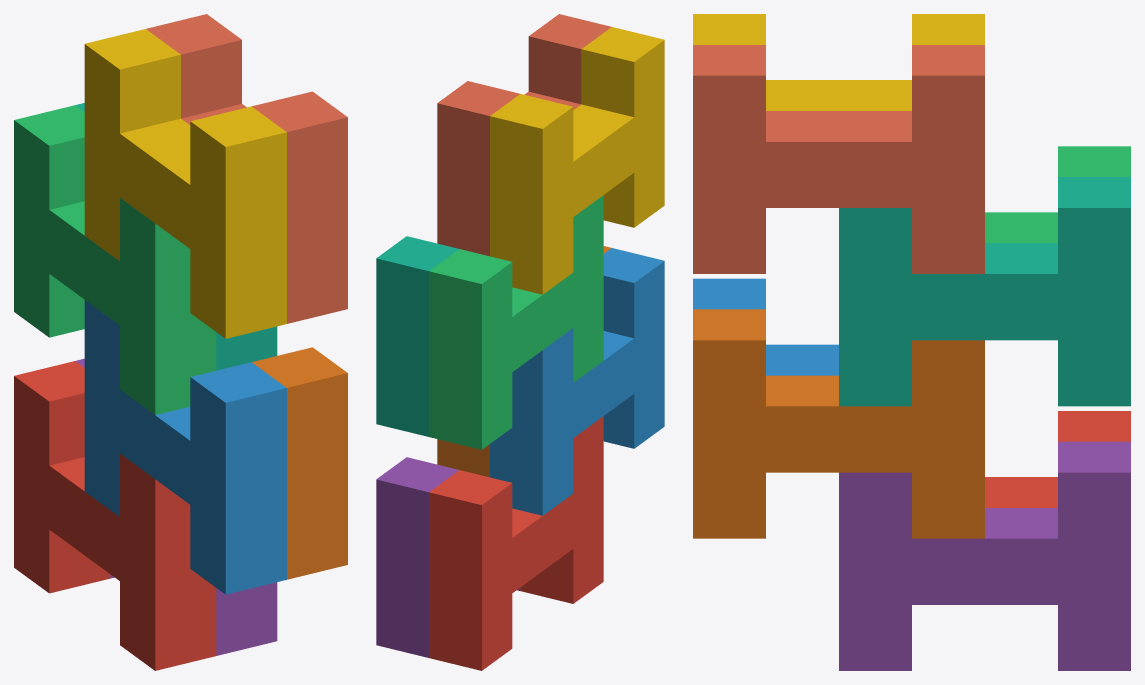
The model's file is tiling.obj.
3 views of the same model, side by side, from view 1: azimuth 30°, elevation 25°; view 2: azimuth 150°, elevation 25°; view 3: azimuth 270°, elevation 25° (orthographic). The views are drawn at different scales.
Parts seen in each view (by area): view 1: copy_1_domain_4, copy_1_domain_1, copy_1_domain_2, copy_1_domain_3, copy_1_domain_8, copy_1_domain_6, copy_1_domain_5, copy_1_domain_7; view 2: copy_1_domain_4, copy_1_domain_1, copy_1_domain_3, copy_1_domain_2, copy_1_domain_8, copy_1_domain_5, copy_1_domain_7, copy_1_domain_6; view 3: copy_1_domain_8, copy_1_domain_6, copy_1_domain_7, copy_1_domain_5, copy_1_domain_4, copy_1_domain_2, copy_1_domain_3, copy_1_domain_1.
Part boxes in pixels (<box>): copy_1_domain_4: <box>84,29,286,338</box>; copy_1_domain_1: <box>14,361,216,670</box>; copy_1_domain_2: <box>84,300,286,594</box>; copy_1_domain_3: <box>14,105,216,414</box>; copy_1_domain_8: <box>146,14,347,323</box>; copy_1_domain_6: <box>252,347,347,579</box>; copy_1_domain_5: <box>75,358,277,655</box>; copy_1_domain_7: <box>75,103,277,370</box>; copy_1_domain_4: <box>490,27,664,294</box>; copy_1_domain_1: <box>429,416,603,670</box>; copy_1_domain_3: <box>429,195,603,449</box>; copy_1_domain_2: <box>490,248,664,515</box>; copy_1_domain_8: <box>437,14,611,256</box>; copy_1_domain_5: <box>376,457,520,657</box>; copy_1_domain_7: <box>376,236,458,436</box>; copy_1_domain_6: <box>437,246,611,477</box>; copy_1_domain_8: <box>693,45,984,273</box>; copy_1_domain_6: <box>693,309,984,538</box>; copy_1_domain_7: <box>839,177,1130,406</box>; copy_1_domain_5: <box>839,441,1130,670</box>; copy_1_domain_4: <box>693,14,984,110</box>; copy_1_domain_2: <box>693,278,838,375</box>; copy_1_domain_3: <box>985,146,1130,243</box>; copy_1_domain_1: <box>985,411,1130,507</box>.
Size of the model in its own units: 2 by 9 by 6.
